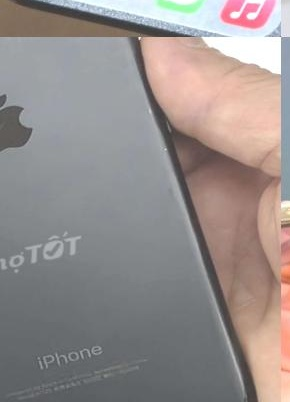scratch: (134, 0, 290, 402), (132, 14, 290, 402), (137, 88, 158, 118), (226, 385, 255, 402), (157, 139, 175, 158)
